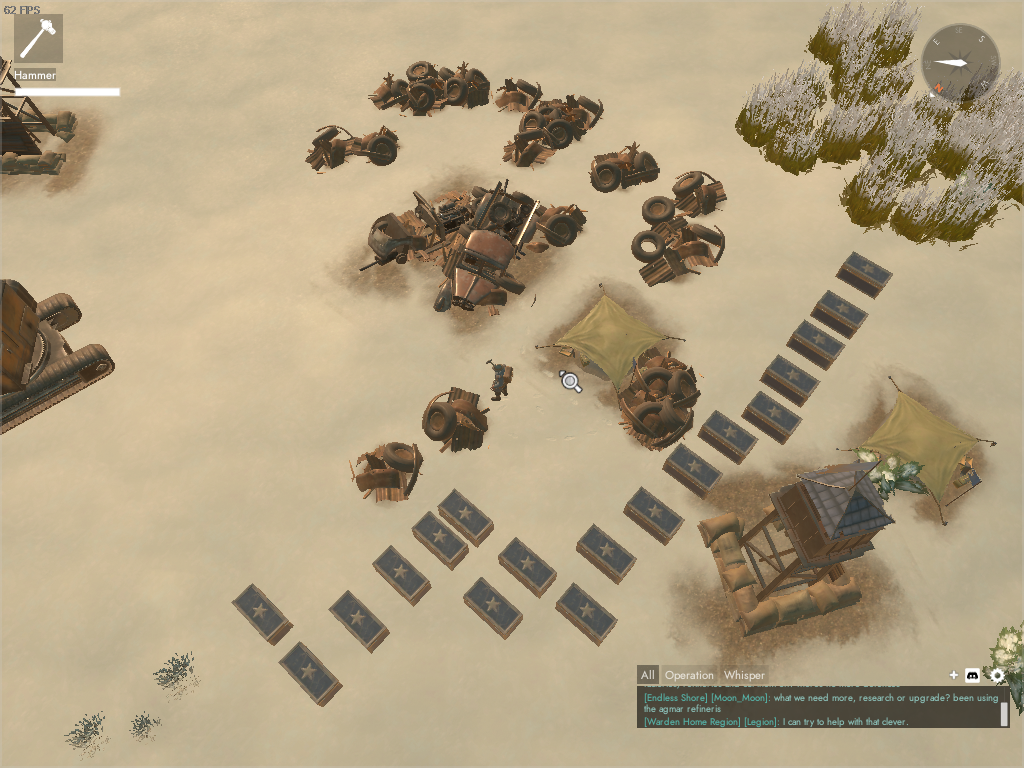crane: (1, 277, 117, 440)
foxhole: (835, 375, 999, 531), (534, 281, 690, 410)
player: (484, 357, 516, 403)
scrap: (620, 347, 701, 453), (503, 92, 604, 172), (365, 58, 492, 121), (630, 213, 728, 288), (348, 440, 424, 505), (420, 386, 491, 454), (303, 123, 399, 172), (643, 171, 730, 220), (589, 140, 660, 194), (495, 76, 544, 113)
scrapyard: (360, 179, 588, 319)
storage_box: (278, 641, 345, 707), (553, 581, 619, 648), (232, 582, 296, 648), (328, 589, 392, 654), (461, 576, 524, 642), (574, 522, 637, 585), (497, 536, 558, 599), (372, 545, 432, 607), (622, 485, 684, 545), (661, 442, 724, 501), (436, 488, 495, 549), (696, 410, 760, 466), (412, 511, 470, 572), (740, 390, 803, 446), (759, 354, 822, 409), (785, 319, 848, 373), (809, 289, 868, 340), (835, 250, 894, 300)
watchtower: (698, 447, 897, 641), (1, 54, 76, 176)
